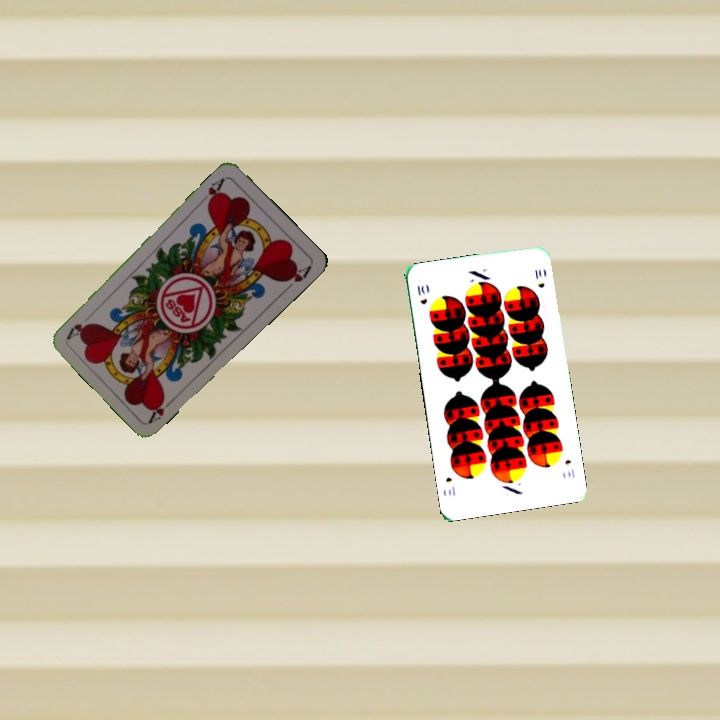HA: (196, 173, 228, 209), (145, 393, 178, 425)
S10: (413, 281, 430, 307), (561, 456, 577, 480)
